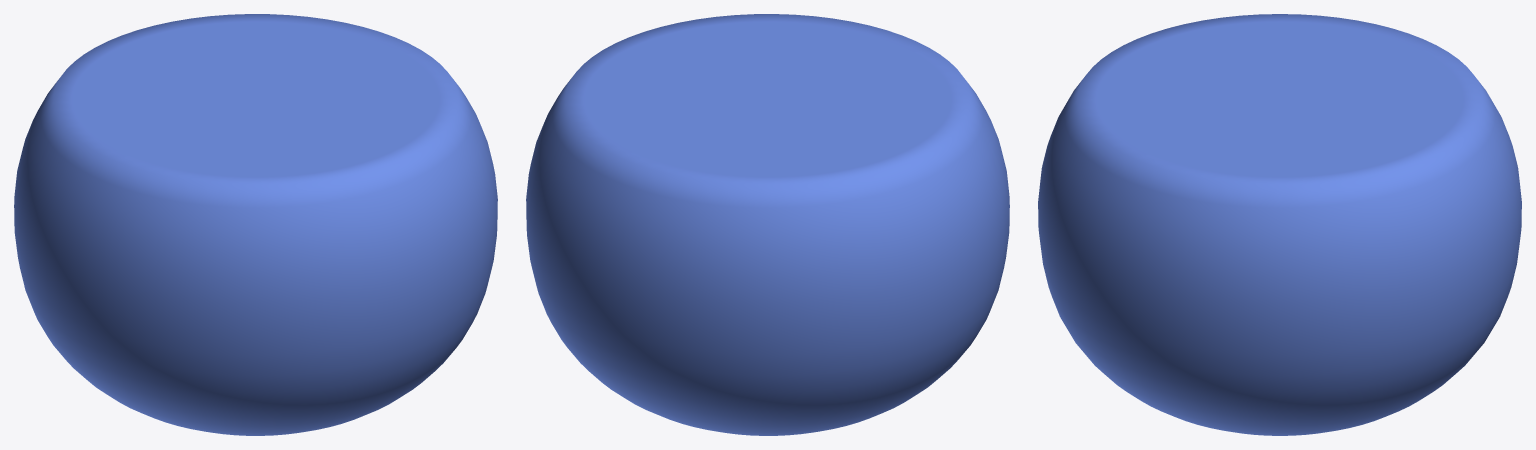
File: Water.fbx
The picture shows the model from 3 angles, left to right: view 1: azimuth 30°, elevation 25°; view 2: azimuth 150°, elevation 25°; view 3: azimuth 270°, elevation 25°; orthographic projection.
Parts seen in each view (by area): view 1: Water; view 2: Water; view 3: Water.
Boxes of the visible parts, bbox=[...] form: Water: bbox=[14, 14, 497, 435]; Water: bbox=[526, 14, 1009, 435]; Water: bbox=[1038, 14, 1521, 435].
Bounding box in the file's own units: 207 × 137 × 207.
